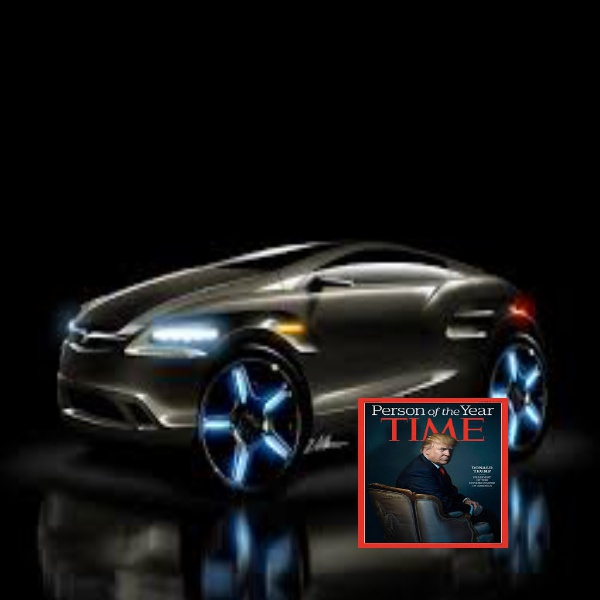time_cover: (349, 394, 508, 555)
